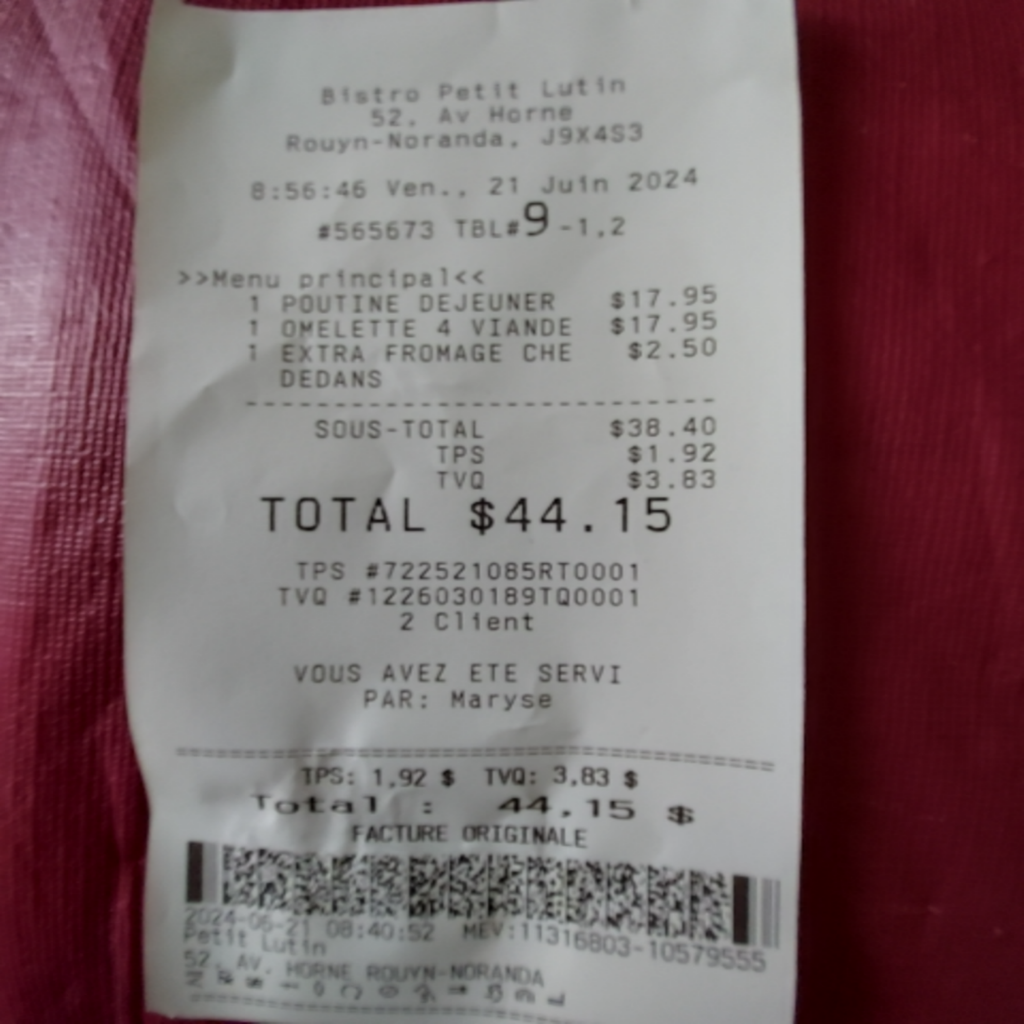recipt: (120, 0, 804, 1009)
